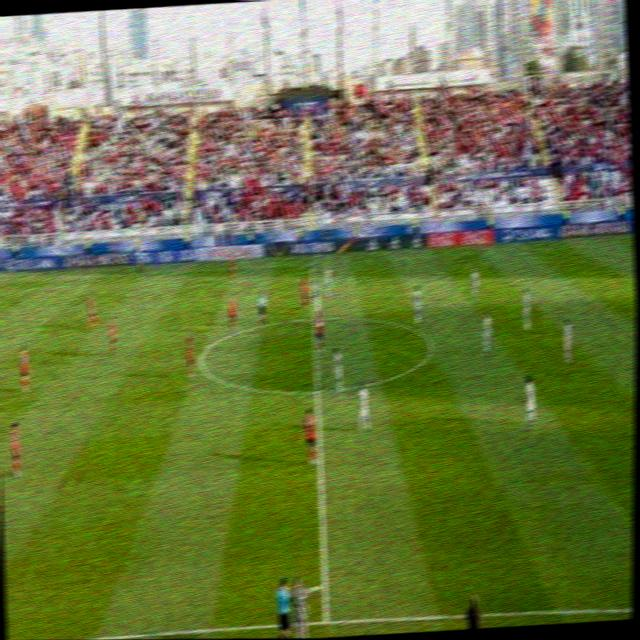halfcircle_bottom: (310, 384, 325, 400)
halfcircle_top: (307, 312, 320, 326)
midline_bottom_intersection: (315, 610, 336, 633)
midline_top_intersection: (302, 256, 320, 271)
